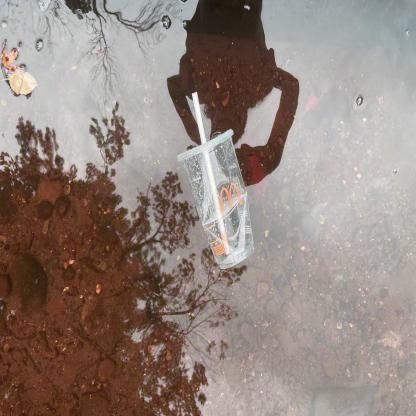Plastic: (165, 88, 260, 278)
